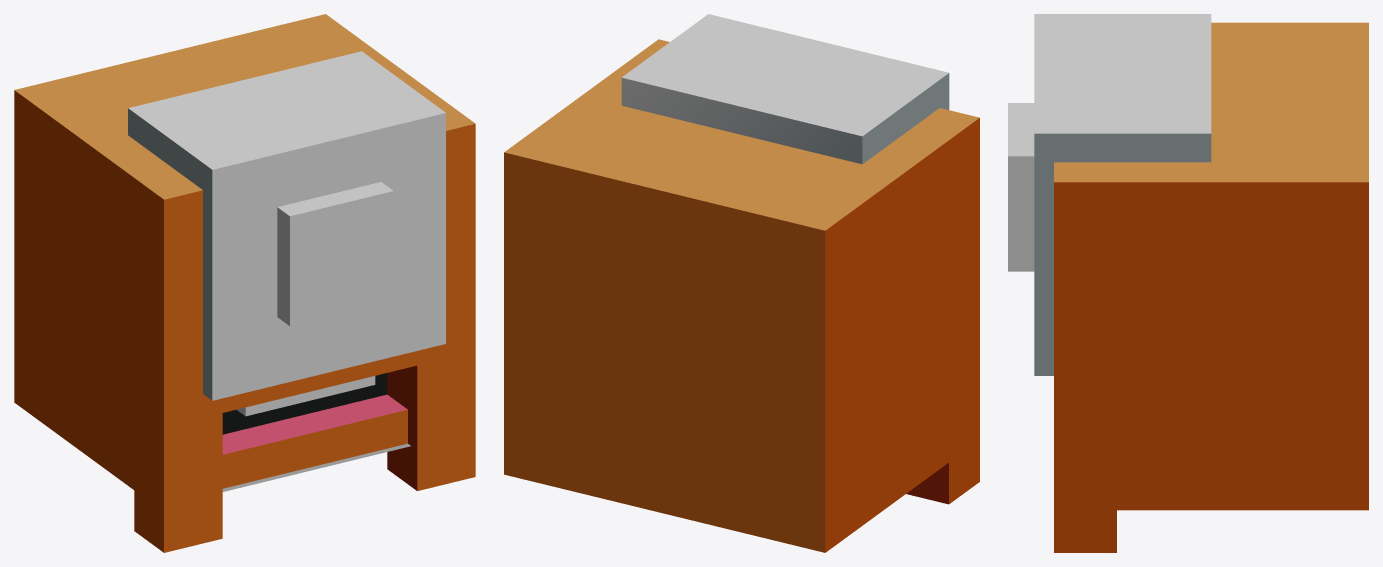
Rendered from EN_SneakyBit_Orange.fbx.
3 renders of one model, left to right at view 1: azimuth 30°, elevation 25°; view 2: azimuth 150°, elevation 25°; view 3: azimuth 270°, elevation 25°, orthographic. The views are drawn at different scales.
Visible parts, largest first — view 1: Body, Eye, Pupil, Mouth, Shadow; view 2: Body, Eye; view 3: Body, Eye, Pupil.
Boxes of the visible parts, bbox=[...] form: Body: bbox=[14, 14, 475, 552]; Eye: bbox=[128, 51, 445, 400]; Pupil: bbox=[277, 182, 393, 325]; Mouth: bbox=[222, 394, 407, 488]; Shadow: bbox=[222, 443, 410, 491]; Body: bbox=[504, 39, 979, 552]; Eye: bbox=[621, 14, 949, 164]; Body: bbox=[1054, 22, 1368, 552]; Eye: bbox=[1034, 14, 1211, 375]; Pupil: bbox=[1008, 103, 1034, 271].
Bounding box in the file's own units: 48 × 56 × 45.84.
